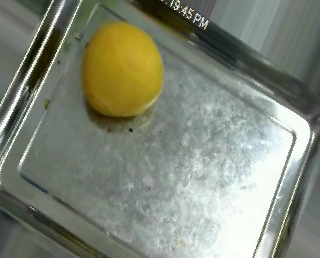Mango: (83, 23, 164, 117)
